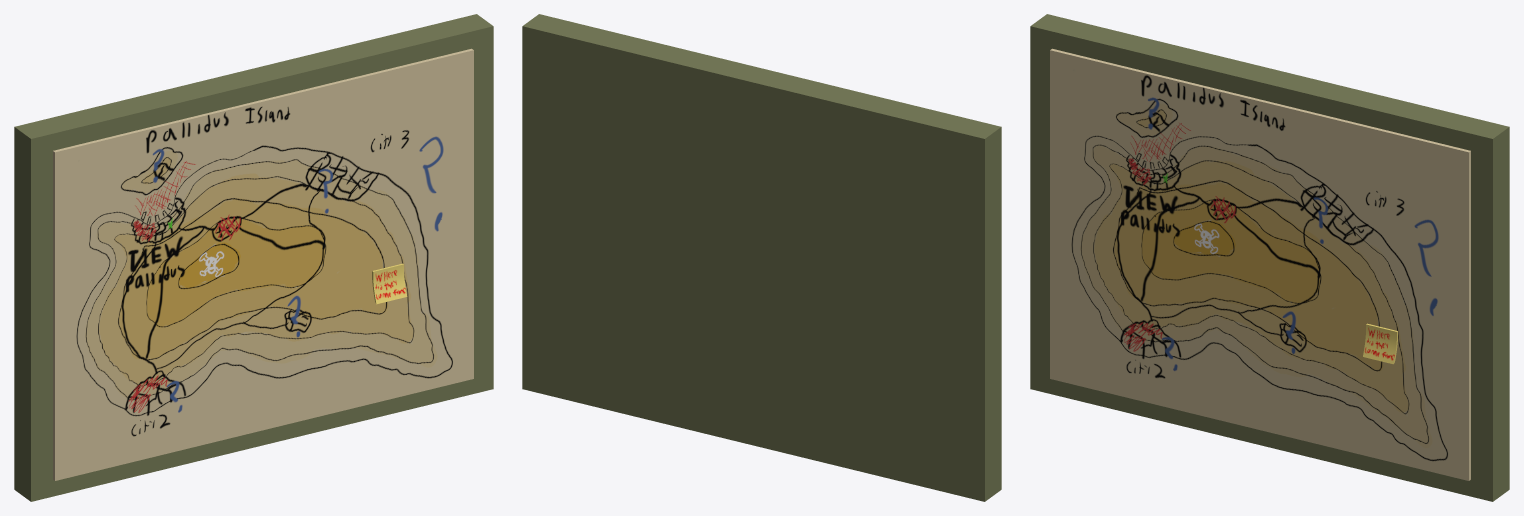
The model's file is MAP_Textured.fbx.
3 views of the same model, side by side, from view 1: azimuth 30°, elevation 25°; view 2: azimuth 150°, elevation 25°; view 3: azimuth 330°, elevation 25° (orthographic).
Visible parts, largest first — view 1: Map, Map_Frame, Sticky_Note; view 2: Map_Frame; view 3: Map, Map_Frame, Sticky_Note.
Boxes of the visible parts, x1,y1,x2,y2 form: Map: [53, 48, 473, 480]; Map_Frame: [14, 14, 493, 501]; Sticky_Note: [372, 263, 407, 304]; Map_Frame: [522, 14, 1001, 501]; Map: [1050, 48, 1470, 480]; Map_Frame: [1030, 14, 1509, 501]; Sticky_Note: [1363, 323, 1397, 364].
Bounding box in the file's own units: 1.6 × 1.2 × 0.1389.
3 materials, 3 textured.
